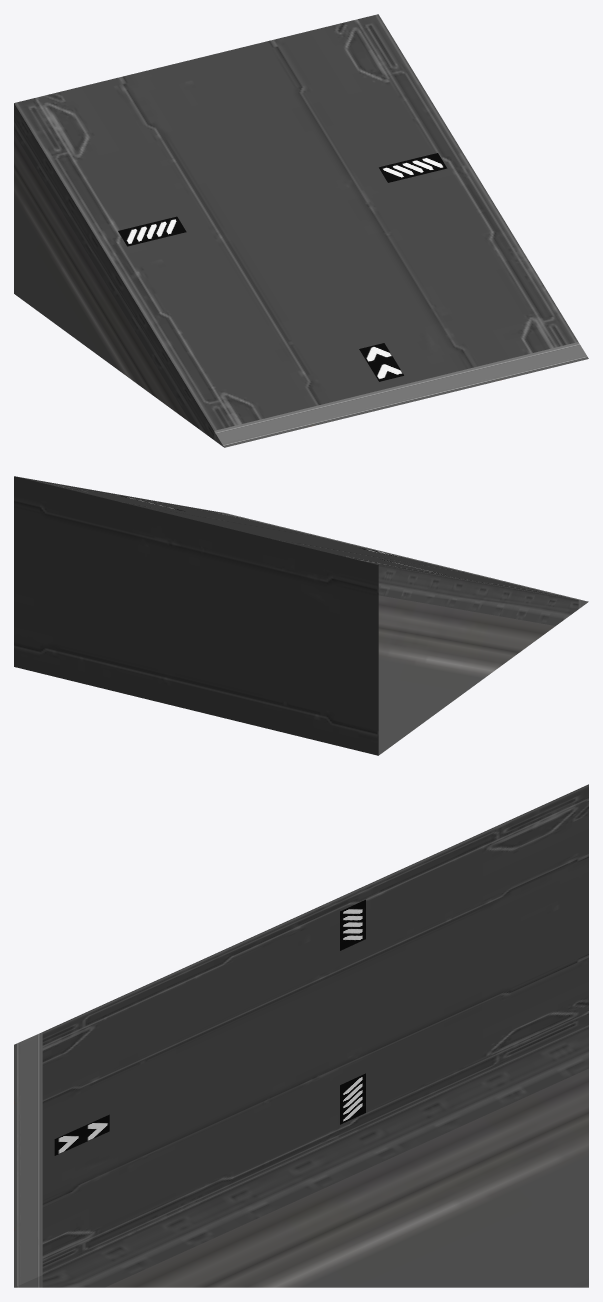
File: ramp.glb
3 views of the same model, one above another, from view 1: azimuth 30°, elevation 25°; view 2: azimuth 150°, elevation 25°; view 3: azimuth 270°, elevation 25° (orthographic). The views are drawn at different scales.
Parts seen in each view (by area): view 1: Platform_Ramp_2; view 2: Platform_Ramp_2; view 3: Platform_Ramp_2.
Part boxes in pixels (x1,y1,x2,y2): Platform_Ramp_2: (14, 14, 588, 447); Platform_Ramp_2: (14, 476, 588, 755); Platform_Ramp_2: (14, 784, 588, 1287).
Bounding box in the file's own units: 2 × 1 × 2.
3 materials, 3 textured.
